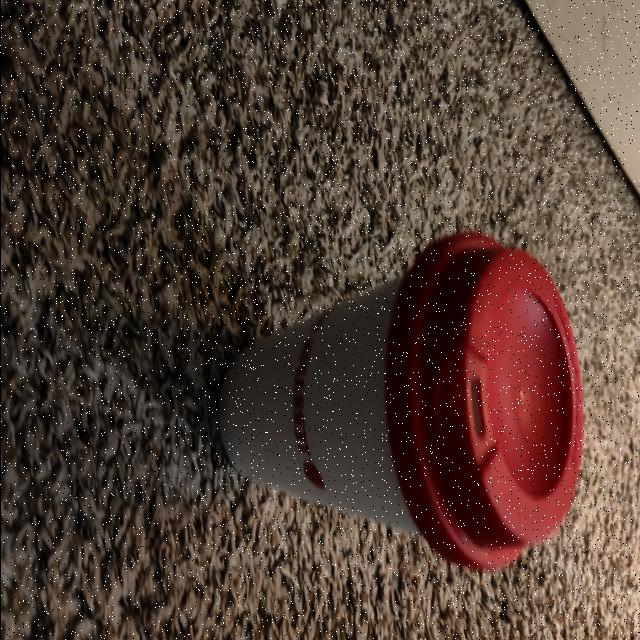mug: (215, 225, 575, 560)
